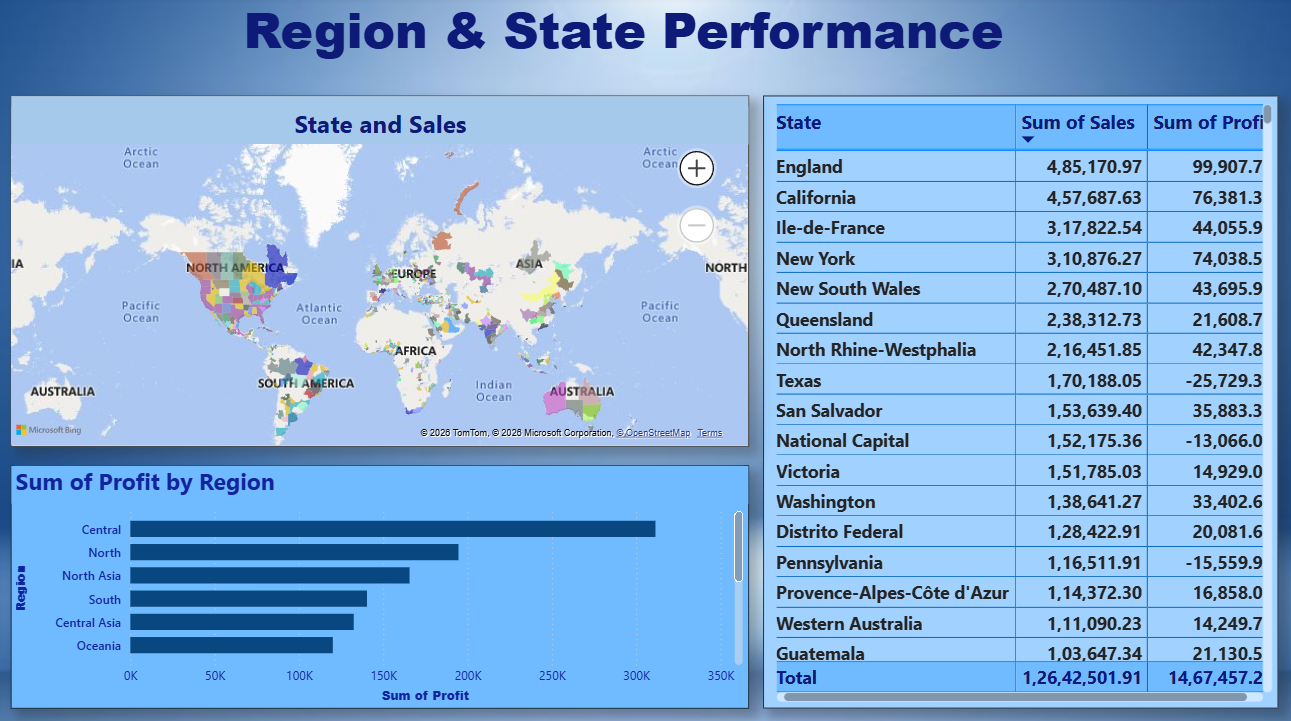

The page's visual inventory and layout, read from the dashboard file:
{"tool":"powerbi","page":{"name":"Region & State Performance","canvas":[1280,720],"ordinal":2},"visuals":[{"type":"textbox","title":"Region & State Performance","box":[239.7,0,775.2,69.3],"z":0},{"type":"barChart","fields":{"Category":["superstore_dataset.Region"],"Y":["Sum(superstore_dataset.Profit)"]},"box":[14,464,728,240],"z":1000},{"type":"tableEx","fields":{"Values":["superstore_dataset.State","Sum(superstore_dataset.Sales)","Sum(superstore_dataset.Profit)"]},"box":[756,100,508,604],"z":2000},{"type":"filledMap","fields":{"Category":["superstore_dataset.State"],"Series":["superstore_dataset.Sales"]},"box":[14,100,728,346],"z":3000}]}

Visuals, with their boxes in screenshot pixels (x1, y1, x2, y2), scaled from the page's 1280x720 canvas onto the 1291x721 screenshot:
"Region & State Performance" textbox: [242,0,1024,69]
barChart - superstore_dataset.Region x Sum(superstore_dataset.Profit): [14,465,748,705]
tableEx - superstore_dataset.State x Sum(superstore_dataset.Sales): [762,100,1275,705]
filledMap - superstore_dataset.State x superstore_dataset.Sales: [14,100,748,447]
